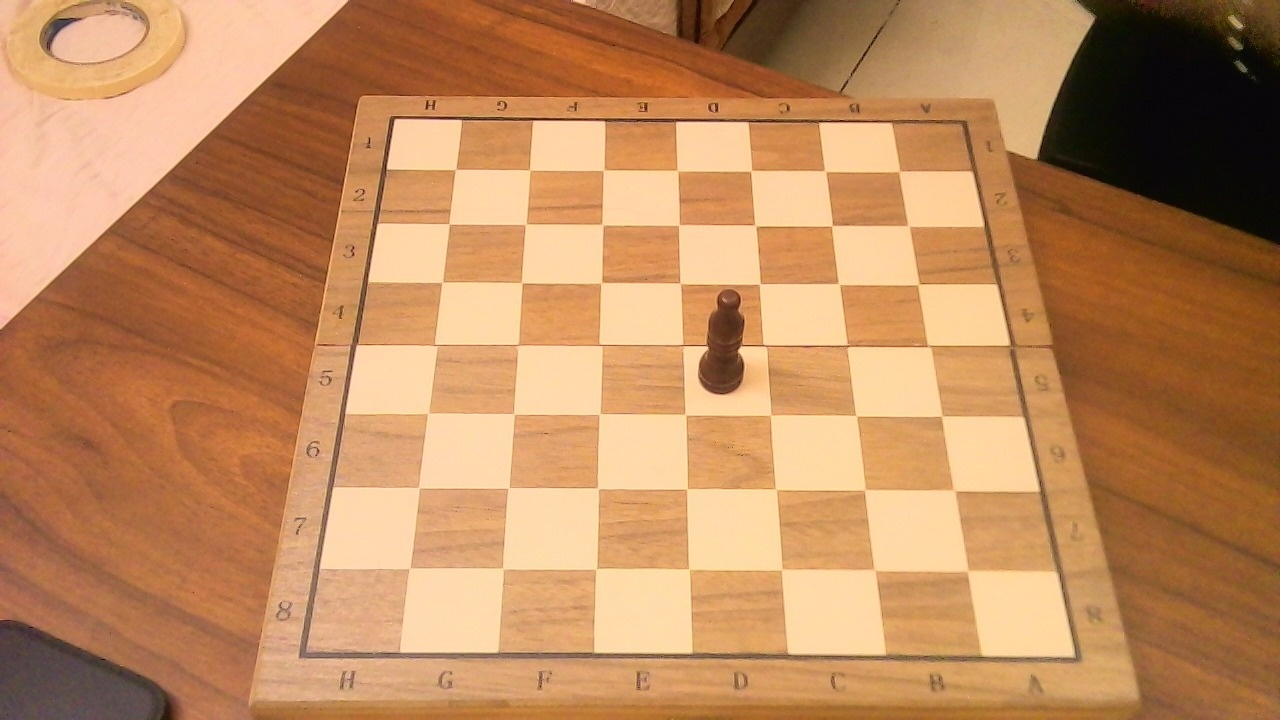b: (691, 274, 764, 401)
